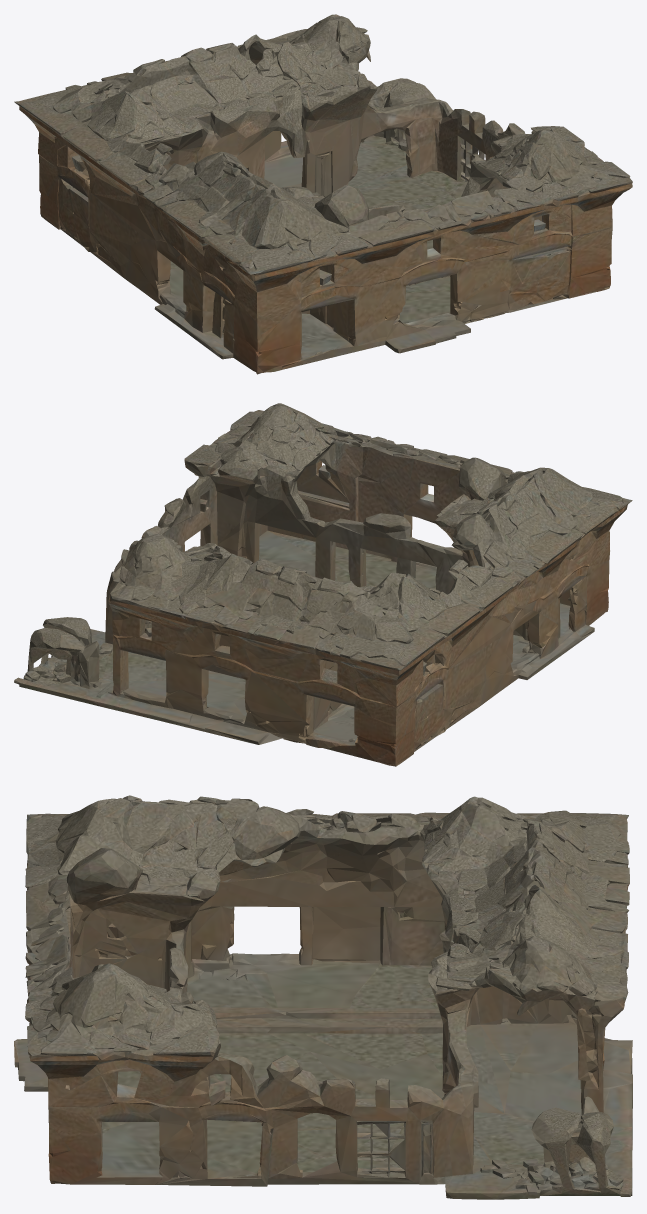
The model's file is insula_ostia_a.meshy.reduced.glb.
The picture shows the model from 3 angles, top to bottom: view 1: azimuth 30°, elevation 25°; view 2: azimuth 150°, elevation 25°; view 3: azimuth 270°, elevation 25°; orthographic projection. The views are drawn at different scales.
Size of the model in its own units: 1.79 by 0.6621 by 1.9.
1 material, 1 textured.
